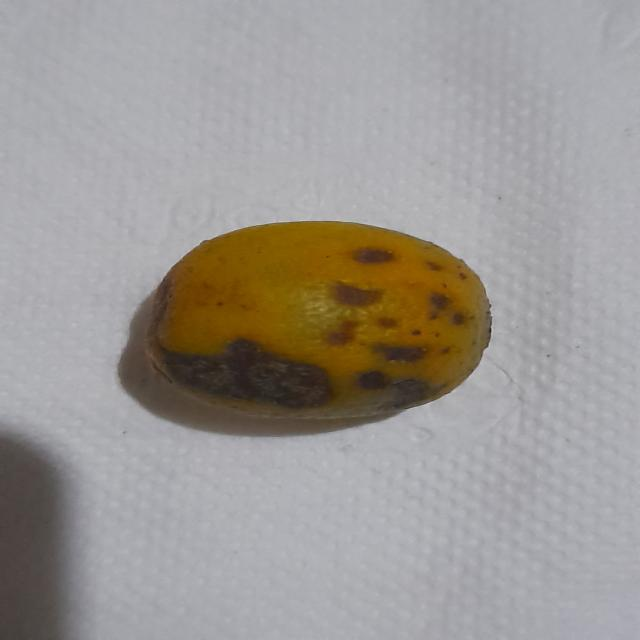black spot: (129, 216, 496, 430)
